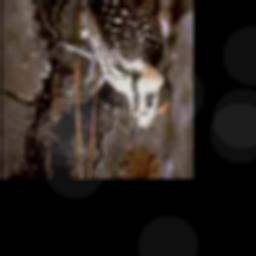Woodpecker: (57, 0, 171, 159)
